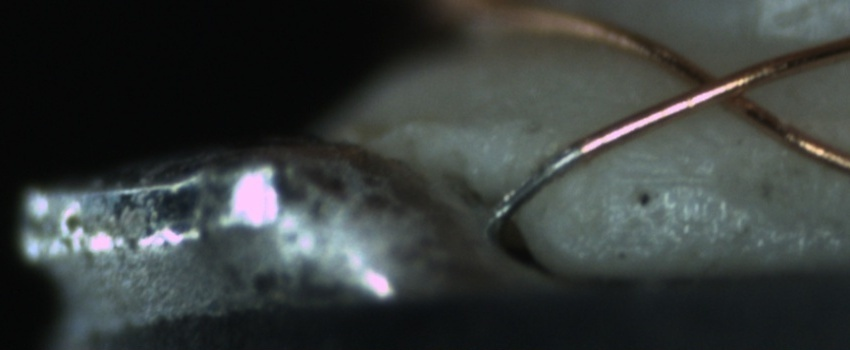CL: (662, 52, 771, 121)
DL: (599, 150, 722, 206)
TS: (490, 145, 584, 222)
TTCW: (485, 133, 598, 223)
